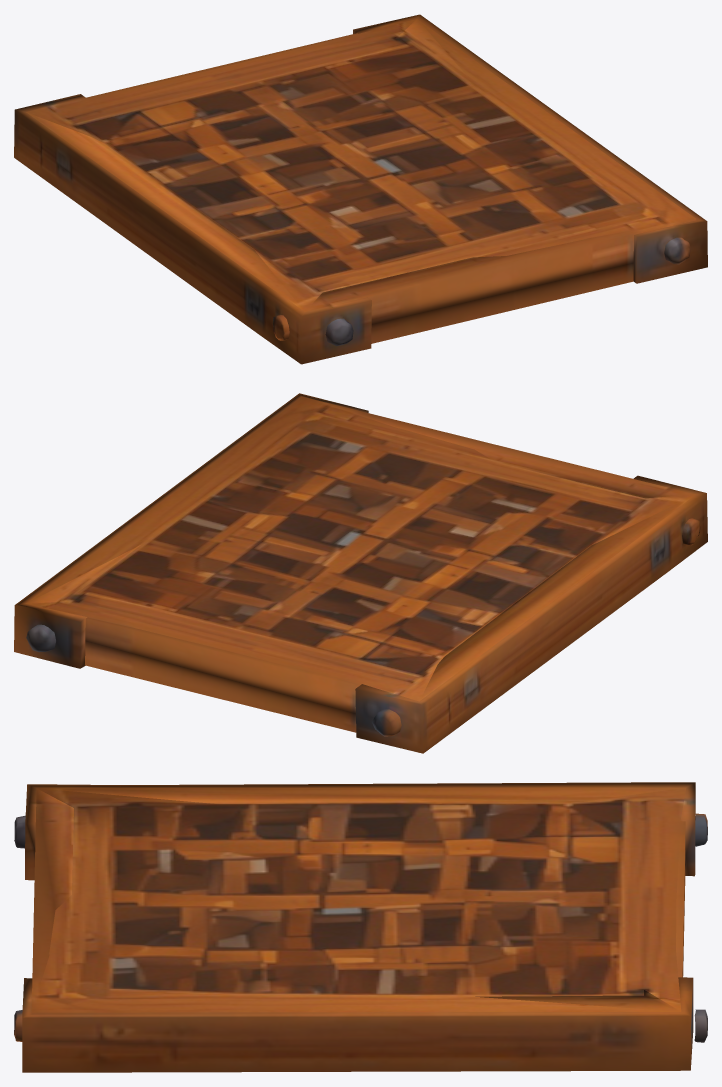
Rendered from hatch_grating.glb.
3 views of the same model, one above another, from view 1: azimuth 30°, elevation 25°; view 2: azimuth 150°, elevation 25°; view 3: azimuth 270°, elevation 25° (orthographic). The views are drawn at different scales.
Visible parts, largest first — view 1: grating; view 2: grating; view 3: grating.
Boxes of the visible parts, left/top/right/bottom form: grating: left=14, top=14, right=707, bottom=364; grating: left=14, top=393, right=707, bottom=753; grating: left=14, top=782, right=707, bottom=1072.
Bounding box in the file's own units: 0.9654 × 0.1102 × 1.2.
1 material, 1 textured.
